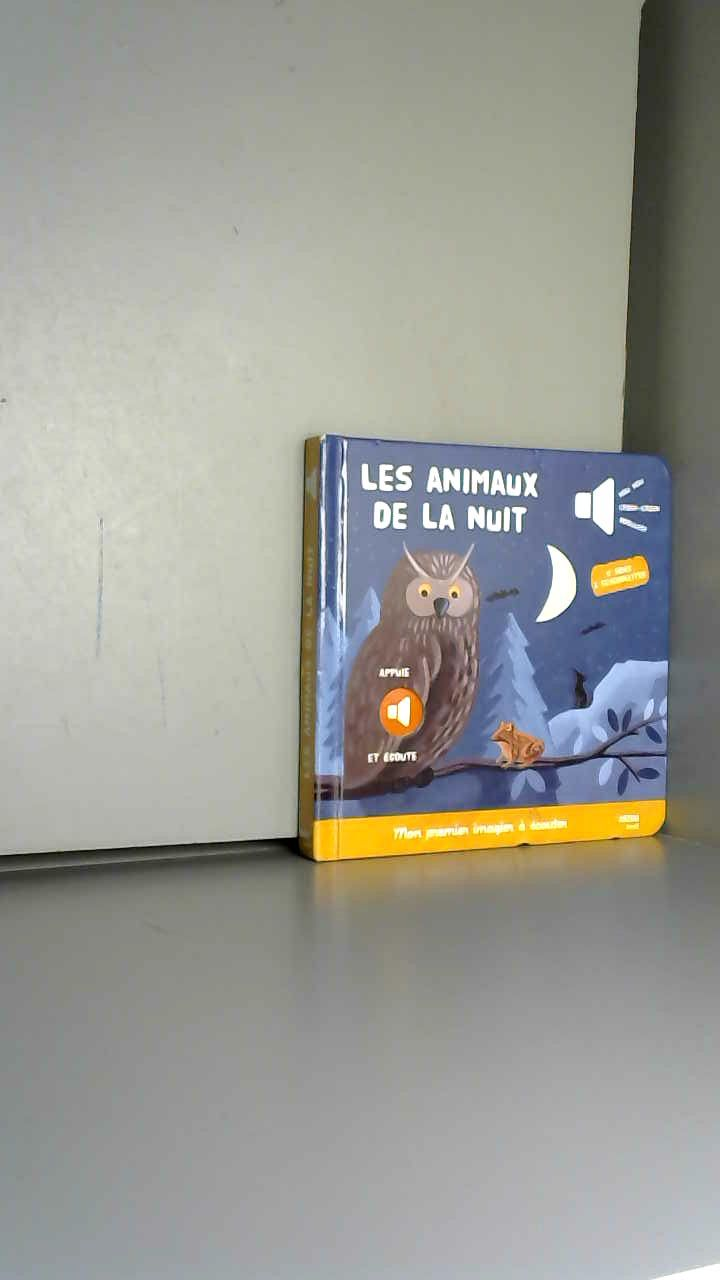book: (270, 410, 719, 926)
